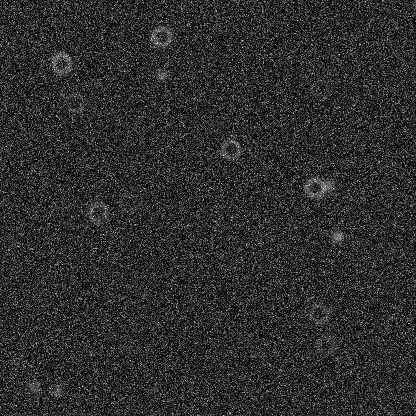Ring: (303, 175, 327, 199), (86, 200, 110, 224), (314, 332, 338, 356), (218, 137, 242, 161), (149, 24, 173, 48), (63, 90, 87, 114), (306, 301, 330, 325), (116, 189, 140, 213), (49, 51, 73, 75), (309, 76, 333, 100)
Spot: (321, 177, 337, 193), (329, 228, 345, 244), (48, 382, 64, 398), (153, 68, 169, 84), (7, 353, 23, 369), (26, 379, 42, 395)
